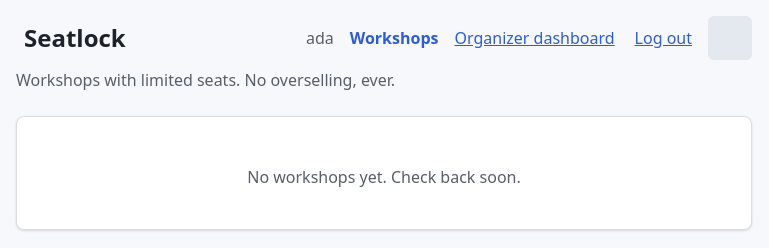
Scenario: app › lets staff switch views and marks the current one
Click the button "Organizer dashboard" at (535, 38), box top-left (454, 16), bottom-right (615, 60)
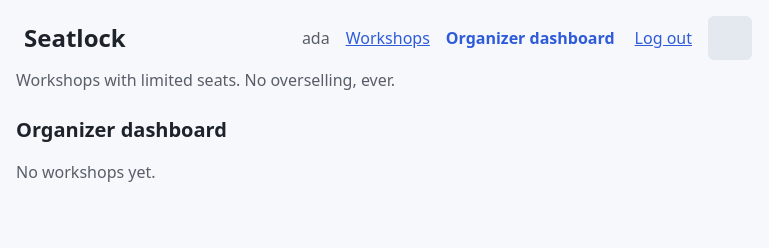
Check: the heading "Organizer dashboard" is shown, box top-left (16, 116), bottom-right (227, 143)
